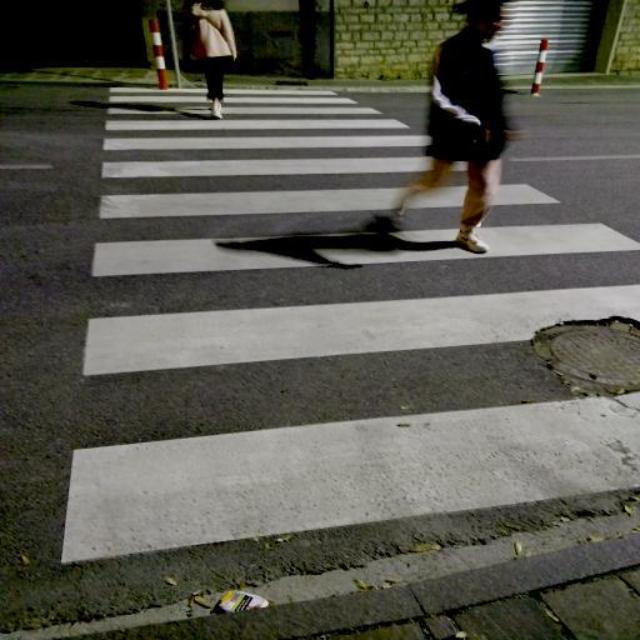sidewalk: (63, 86, 639, 563)
